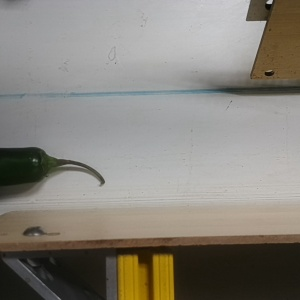Cut Point: (26, 144, 60, 182)
